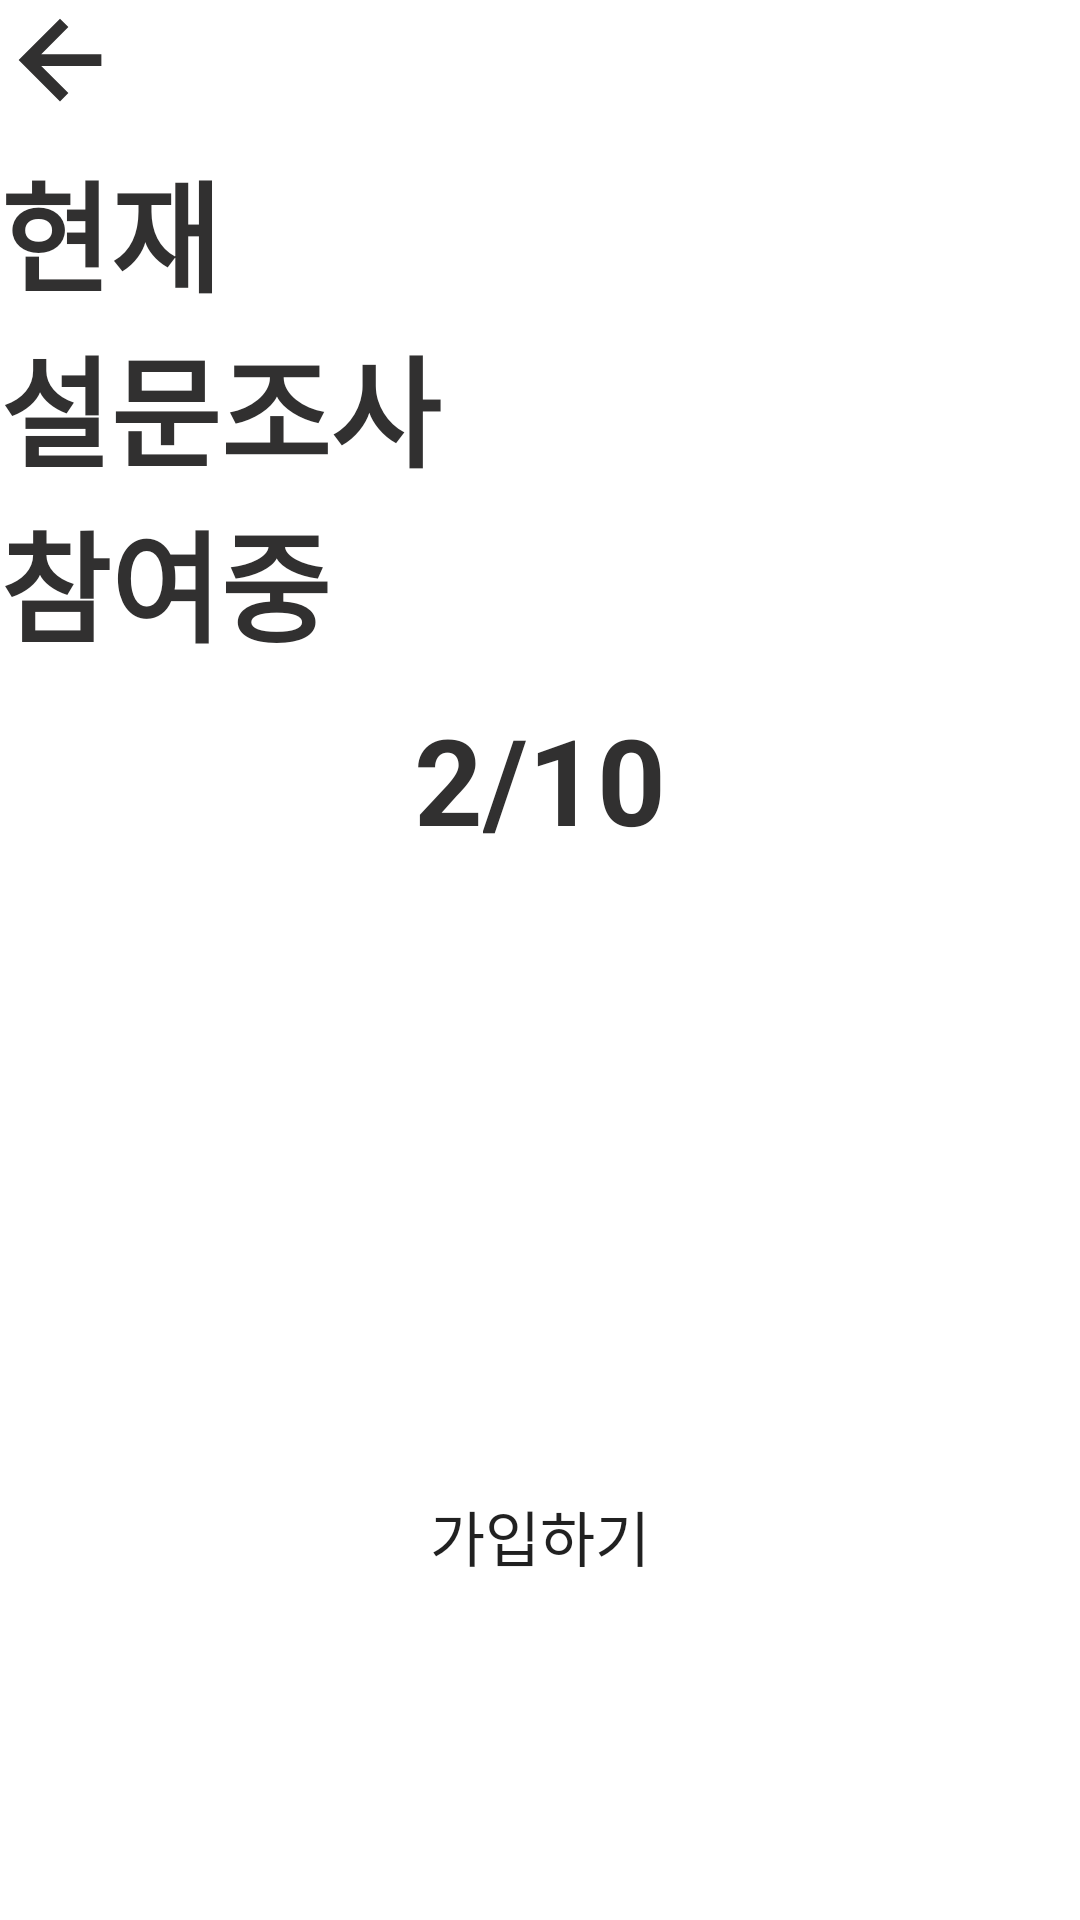

Where to tap for icons on this 1080 × 1920 app screen, as (x=x, y=y):
arrow back: (x=60, y=60)
